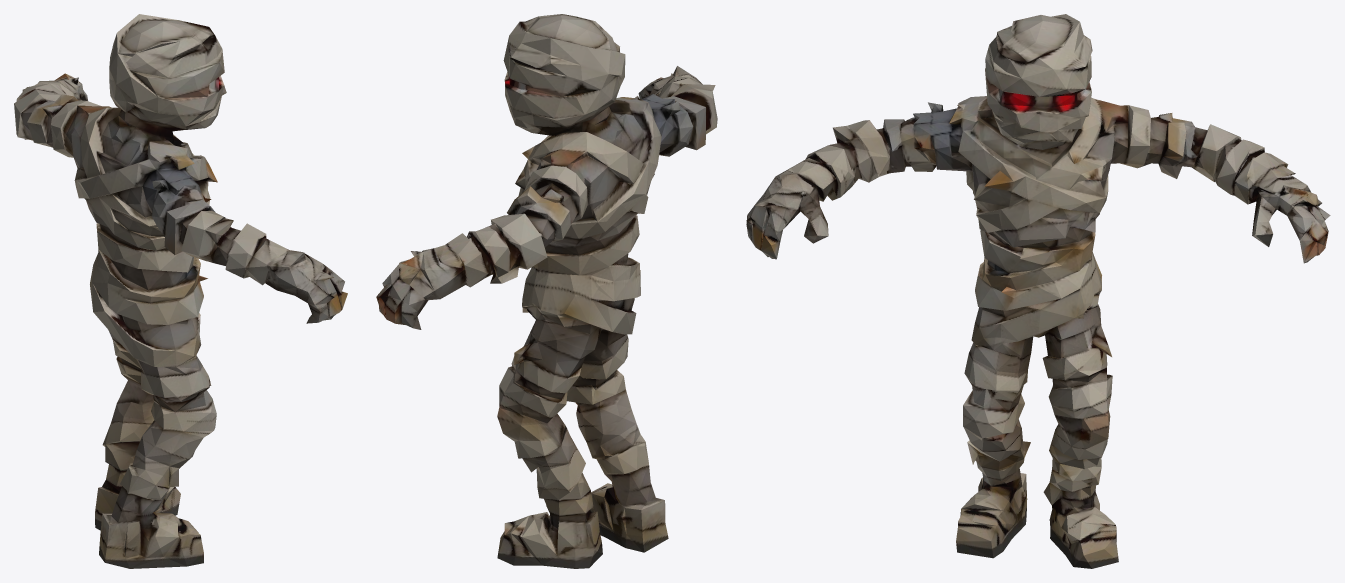
Rendered from tripo_convert_cae6df79-c1a4-4734-87cf-6876b5606b49.obj.
3 views of the same model, side by side, from view 1: azimuth 30°, elevation 25°; view 2: azimuth 150°, elevation 25°; view 3: azimuth 270°, elevation 25° (orthographic). The views are drawn at different scales.
Parts seen in each view (by area): view 1: tripo_node_cae6df79-c1a4-4734-87cf-6876b5606b49; view 2: tripo_node_cae6df79-c1a4-4734-87cf-6876b5606b49; view 3: tripo_node_cae6df79-c1a4-4734-87cf-6876b5606b49.
Part boxes in pixels (left/top/right/bottom): tripo_node_cae6df79-c1a4-4734-87cf-6876b5606b49: left=14, top=14, right=347, bottom=568; tripo_node_cae6df79-c1a4-4734-87cf-6876b5606b49: left=376, top=14, right=717, bottom=568; tripo_node_cae6df79-c1a4-4734-87cf-6876b5606b49: left=746, top=14, right=1330, bottom=568.
Bounding box in the file's own units: 0.2774 × 1 × 0.9943.
Materials: 1 (1 with a texture image).
